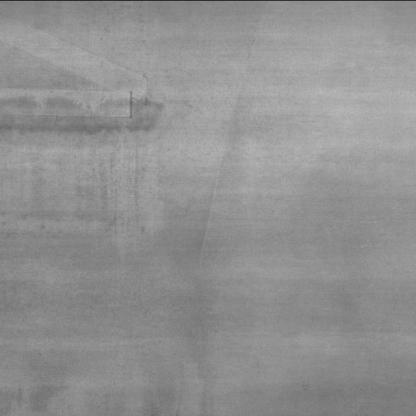rolled_pit: (1, 7, 163, 128)
